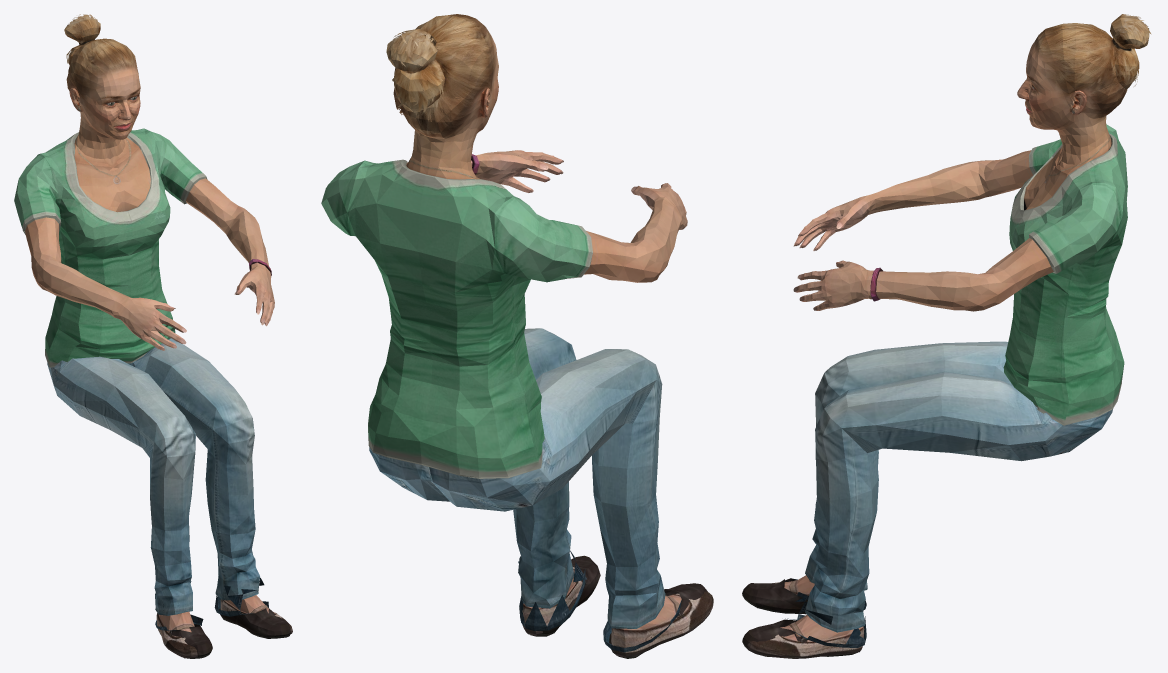
File: hannah_casual.obj
3 renders of one model, left to right at view 1: azimuth 30°, elevation 25°; view 2: azimuth 150°, elevation 25°; view 3: azimuth 270°, elevation 25°, orthographic. The views are drawn at different scales.
Parts seen in each view (by area): view 1: Outfit_original_2, Head_0, Skin_original_4, Shoes_3, Hair_1; view 2: Outfit_original_2, Head_0, Hair_1, Shoes_3, Skin_original_4; view 3: Outfit_original_2, Head_0, Skin_original_4, Shoes_3, Hair_1.
Boxes of the visible parts, x1,y1,x2,y2 form: Outfit_original_2: (14, 128, 292, 658); Head_0: (64, 21, 148, 191); Skin_original_4: (121, 266, 274, 350); Shoes_3: (155, 577, 290, 658); Hair_1: (66, 14, 98, 90); Outfit_original_2: (321, 154, 713, 657); Head_0: (386, 14, 498, 179); Hair_1: (391, 29, 465, 137); Shoes_3: (518, 550, 707, 658); Skin_original_4: (478, 150, 687, 229); Outfit_original_2: (747, 124, 1127, 658); Head_0: (1017, 22, 1149, 196); Skin_original_4: (793, 195, 869, 310); Shoes_3: (742, 578, 866, 657); Hair_1: (1033, 14, 1151, 111).
Bounding box in the file's own units: 0.5976 × 1.37 × 0.8265.
Materials: 4 (4 with a texture image).
